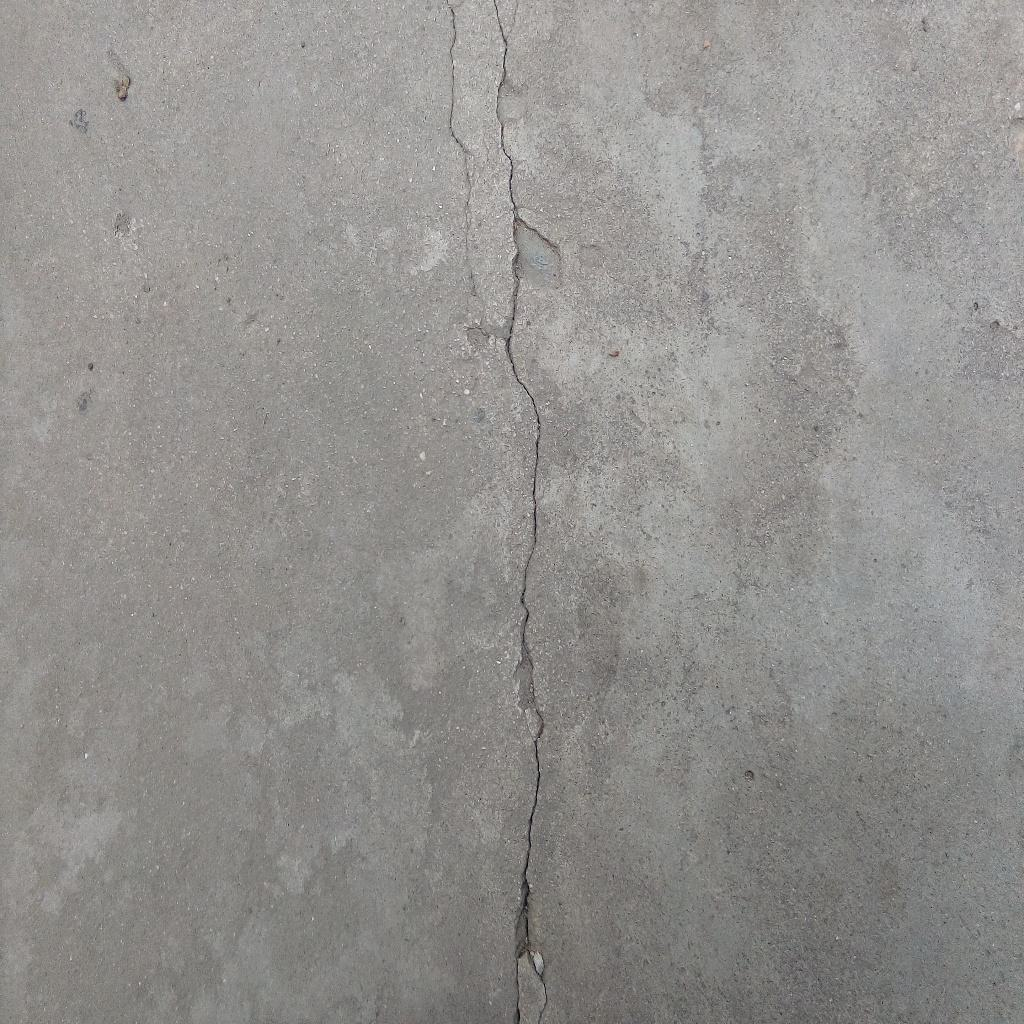Crack: (495, 1, 546, 1024), (445, 1, 482, 304)
Spalling: (510, 214, 563, 292), (464, 325, 491, 355)
